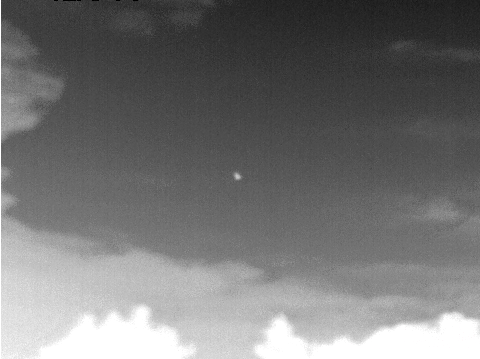dim target: (232, 171, 242, 181)
